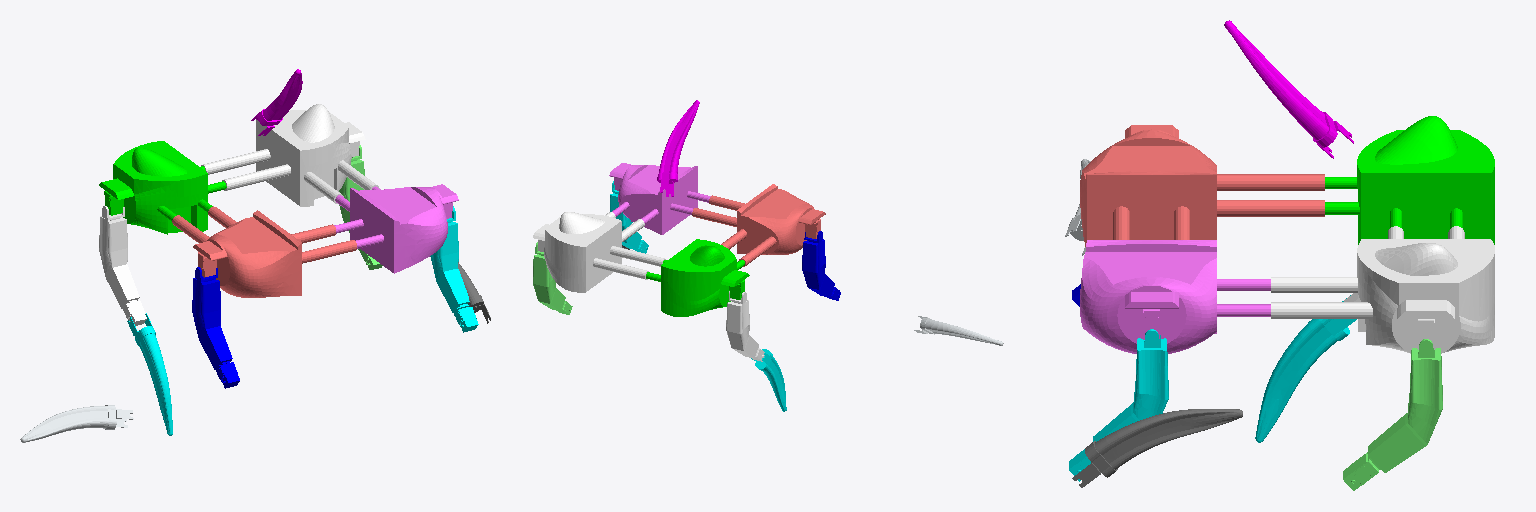
robot.urdf — Robot:
<?xml version="1.0" encoding="utf-8"?>
<!-- This URDF was automatically created by SolidWorks to URDF Exporter! Originally created by [author] ([email redacted]) 
     Commit Version: 1.5.1-0-g916b5db  Build Version: 1.5.7152.31018
     For more information, please see http://wiki.ros.org/sw_urdf_exporter -->
<robot
  name="Robot">
  <link
    name="NodeFL">
    <inertial>
      <origin
        xyz="-0.083675 0.0046599 0.04667"
        rpy="0 0 0" />
      <mass
        value="3.5578" />
      <inertia
        ixx="0.013212"
        ixy="-6.3498E-05"
        ixz="-0.00039742"
        iyy="0.010095"
        iyz="1.6695E-06"
        izz="0.016172" />
    </inertial>
    <visual>
      <origin
        xyz="0 0 0"
        rpy="0 0 0" />
      <geometry>
        <mesh
          filename="package://STL/Render/NodeFL.STL" />
      </geometry>
      <material
        name="NodeFRBase">
        <color
          rgba="1 .5 1 1" />
      </material>
    </visual>
    <collision>
      <origin
        xyz="0 0 0"
        rpy="0 0 0" />
      <geometry>
        <mesh
          filename="package://STL/Simple/NodeFL.STL" />
      </geometry>
    </collision>
  </link>
  <link
    name="LegFLtop">
    <inertial>
      <origin
        xyz="0.047937 -0.11059 0.024739"
        rpy="0 0 0" />
      <mass
        value="0.41495" />
      <inertia
        ixx="0.0010583"
        ixy="0.00019751"
        ixz="4.9968E-08"
        iyy="0.00020265"
        iyz="1.9702E-08"
        izz="0.0011571" />
    </inertial>
    <visual>
      <origin
        xyz="0 0 0"
        rpy="0 0 0" />
      <geometry>
        <mesh
          filename="package://STL/Render/LegFLtop.STL" />
      </geometry>
      <material
        name="LegFLTop">
        <color
          rgba="0 1 1 1" />
      </material>
    </visual>
    <collision>
      <origin
        xyz="0 0 0"
        rpy="0 0 0" />
      <geometry>
        <mesh
          filename="package://STL/Simple/LegFLtop.STL" />
      </geometry>
    </collision>
  </link>
  <joint
    name="LegFLtopJoint"
    type="revolute">
    <origin
      xyz="0.00085062 0.0033885 0.050662"
      rpy="1.5708 0.5901 1.5708" />
    <parent
      link="NodeFL" />
    <child
      link="LegFLtop" />
    <axis
      xyz="0 0 1" />
    <limit
      lower="-1.5"
      upper="1.5"
      effort="1.667"
      velocity="6.25" />
  </joint>
  <link
    name="LegFLbottom">
    <inertial>
      <origin
        xyz="0.02 0.34874 0.022133"
        rpy="0 0 0" />
      <mass
        value="0.18815" />
      <inertia
        ixx="0.0006376"
        ixy="6.6863E-10"
        ixz="-5.2001E-11"
        iyy="4.4092E-05"
        iyz="-2.2131E-05"
        izz="0.00061305" />
    </inertial>
    <visual>
      <origin
        xyz="0 0 0"
        rpy="-3.14 0 0" />
      <geometry>
        <mesh
          filename="package://STL/Render/LegFLbottom.STL" />
      </geometry>
      <material
        name="LegFLbottom">
        <color
          rgba="0.5 0.5 0.5 1" />
      </material>
    </visual>
    <collision>
      <origin
        xyz="0 0 0"
        rpy="-3.14 0 0" />
      <geometry>
        <mesh
          filename="package://STL/Simple/LegFLbottom.STL" />
      </geometry>
    </collision>
  </link>
  <joint
    name="LegFLbottomJoint"
    type="revolute">
    <origin
      xyz="0.034951 -0.24385 0.039243"
      rpy="1.5708 0 2.859" />
    <parent
      link="LegFLtop" />
    <child
      link="LegFLbottom" />
    <axis
      xyz="1 0 0" />
    <limit
      lower="-1.5"
      upper="1.5"
      effort="1.667"
      velocity="6.25" />
  </joint>
  <link
    name="NodeFR">
    <inertial>
      <origin
        xyz="0.010522 -0.22855 -0.045204"
        rpy="0 0 0" />
      <mass
        value="3.5744" />
      <inertia
        ixx="0.016182"
        ixy="-0.00038119"
        ixz="0.0010331"
        iyy="0.013312"
        iyz="-0.00013007"
        izz="0.010372" />
    </inertial>
    <visual>
      <origin
        xyz="0 0 0"
        rpy="0 0 0" />
      <geometry>
        <mesh
          filename="package://STL/Render/NodeFR.STL" />
      </geometry>
      <material
        name="NodeFR">
        <color
          rgba="1 0.5 0.5 1" />
      </material>
    </visual>
    <collision>
      <origin
        xyz="0 0 0"
        rpy="0 0 0" />
      <geometry>
        <mesh
          filename="package://STL/Simple/NodeFR.STL" />
      </geometry>
    </collision>
  </link>
  <joint
    name="NodeFRtoFL"
    type="prismatic">
    <origin
      xyz="-0.22314 -0.041066 0.049378"
      rpy="3.1416 1.4002 1.5708" />
    <parent
      link="NodeFL" />
    <child
      link="NodeFR" />
    <axis
      xyz="0 1 0" />
    <limit
      lower="-1"
      upper="1"
      effort="1.667"
      velocity="0" />
  </joint>
  <link
    name="LegFRtop">
    <inertial>
      <origin
        xyz="0.053647 -0.10777 -0.024774"
        rpy="0 0 0" />
      <mass
        value="0.41495" />
      <inertia
        ixx="0.0010335"
        ixy="0.00024421"
        ixz="-2.2119E-08"
        iyy="0.00022746"
        iyz="9.361E-08"
        izz="0.0011571" />
    </inertial>
    <visual>
      <origin
        xyz="0 0 0"
        rpy="0 0 0" />
      <geometry>
        <mesh
          filename="package://STL/Render/LegFRtop.STL" />
      </geometry>
      <material
        name="LegFRtop">
        <color
          rgba="0 0 1 1" />
      </material>
    </visual>
    <collision>
      <origin
        xyz="0 0 0"
        rpy="0 0 0" />
      <geometry>
        <mesh
          filename="package://STL/Simple/LegFRtop.STL" />
      </geometry>
    </collision>
  </link>
  <joint
    name="LegFRtopJoint"
    type="revolute">
    <origin
      xyz="0.0067323 -0.31401 -0.046653"
      rpy="-1.5708 0.75396 0" />
    <parent
      link="NodeFR" />
    <child
      link="LegFRtop" />
    <axis
      xyz="0 0 1" />
    <limit
      lower="-1.5"
      upper="1.5"
      effort="1.667"
      velocity="6.25" />
  </joint>
  <link
    name="LegFRbottom">
    <inertial>
      <origin
        xyz="0.02 0.34598 -0.0004487"
        rpy="0 0 0" />
      <mass
        value="0.18815" />
      <inertia
        ixx="0.0006376"
        ixy="-6.6391E-10"
        ixz="-9.4871E-11"
        iyy="4.3603E-05"
        iyz="-1.4548E-05"
        izz="0.00061354" />
    </inertial>
    <visual>
      <origin
        xyz="0 0 0"
        rpy="0 0 0" />
      <geometry>
        <mesh
          filename="package://STL/Render/LegFRbottom.STL" />
      </geometry>
      <material
        name="LegFRbottom">
        <color
          rgba="0.89804 0.91765 0.92941 1" />
      </material>
    </visual>
    <collision>
      <origin
        xyz="0 0 0"
        rpy="0 0 0" />
      <geometry>
        <mesh
          filename="package://STL/Simple/LegFRbottom.STL" />
      </geometry>
    </collision>
  </link>
  <joint
    name="LegFRbottomJoint"
    type="revolute">
    <origin
      xyz="0.048978 -0.23798 -0.039243"
      rpy="-1.5708 0 -0.2264" />
    <parent
      link="LegFRtop" />
    <child
      link="LegFRbottom" />
    <axis
      xyz="-1 0 0" />
    <limit
      lower="-1.5"
      upper="1.5"
      effort="1.667"
      velocity="6.25" />
  </joint>
  <link
    name="NodeBR">
    <inertial>
      <origin
        xyz="0.013605 -0.19633 -0.0379"
        rpy="0 0 0" />
      <mass
        value="3.796" />
      <inertia
        ixx="0.015744"
        ixy="0.00031531"
        ixz="0.00088543"
        iyy="0.01188"
        iyz="1.0411E-06"
        izz="0.015161" />
    </inertial>
    <visual>
      <origin
        xyz="0 0 0"
        rpy="0 0 0" />
      <geometry>
        <mesh
          filename="package://STL/Render/NodeBR.STL" />
      </geometry>
      <material
        name="NodeBR">
        <color
          rgba="0 1 0 1" />
      </material>
    </visual>
    <collision>
      <origin
        xyz="0 0 0"
        rpy="0 0 0" />
      <geometry>
        <mesh
          filename="package://STL/Simple/NodeBR.STL" />
      </geometry>
    </collision>
  </link>
  <joint
    name="NodeBRtoFR"
    type="prismatic">
    <origin
      xyz="0.042552 -0.2667 -0.24704"
      rpy="1.507 -0.15828 0.38525" />
    <parent
      link="NodeFR" />
    <child
      link="NodeBR" />
    <axis
      xyz="0 1 0" />
    <limit
      lower="-1"
      upper="1"
      effort="1.667"
      velocity="0" />
  </joint>
  <link
    name="LegBRtop">
    <inertial>
      <origin
        xyz="0.024372 -0.11789 -0.024774"
        rpy="0 0 0" />
      <mass
        value="0.41495" />
      <inertia
        ixx="0.0011015"
        ixy="1.3546E-05"
        ixz="2.4998E-09"
        iyy="0.00015944"
        iyz="9.6156E-08"
        izz="0.0011571" />
    </inertial>
    <visual>
      <origin
        xyz="0 0 0"
        rpy="0 0 0" />
      <geometry>
        <mesh
          filename="package://STL/Render/LegBRtop.STL" />
      </geometry>
      <material
        name="LegBRtop">
        <color
          rgba="1 1 1 1" />
      </material>
    </visual>
    <collision>
      <origin
        xyz="0 0 0"
        rpy="0 0 0" />
      <geometry>
        <mesh
          filename="package://STL/Simple/LegBRtop.STL" />
      </geometry>
    </collision>
  </link>
  <joint
    name="LegBRtopJoint"
    type="revolute">
    <origin
      xyz="-0.0042984 -0.19589 0.049227"
      rpy="-2.7873 -0.14095 -1.2078" />
    <parent
      link="NodeBR" />
    <child
      link="LegBRtop" />
    <axis
      xyz="0 0 1" />
    <limit
      lower="-1.5"
      upper="1.5"
      effort="1.667"
      velocity="6.25" />
  </joint>
  <link
    name="LegBRbottom">
    <inertial>
      <origin
        xyz="-0.33522 -0.085642 0.02"
        rpy="0 0 0" />
      <mass
        value="0.18815" />
      <inertia
        ixx="8.589E-05"
        ixy="-0.00015008"
        ixz="6.1943E-10"
        iyy="0.00057125"
        iyz="2.5706E-10"
        izz="0.0006376" />
    </inertial>
    <visual>
      <origin
        xyz="0 0 0"
        rpy="0 0 0" />
      <geometry>
        <mesh
          filename="package://STL/Render/LegBRbottom.STL" />
      </geometry>
      <material
        name="LegBRbottom">
        <color
          rgba="0 1 1 1" />
      </material>
    </visual>
    <collision>
      <origin
        xyz="0 0 0"
        rpy="0 0 0" />
      <geometry>
        <mesh
          filename="package://STL/Simple/LegBRbottom.STL" />
      </geometry>
    </collision>
  </link>
  <joint
    name="LegBRbottomJoint"
    type="revolute">
    <origin
     xyz="-0.013369 -0.2426 -0.039243"
      rpy="-1.5708 0 -0.48443" />
    <parent
      link="LegBRtop" />
    <child
      link="LegBRbottom" />
    <axis
      xyz="0 0 -1" />
    <limit
      lower="-1.5"
      upper="1.5"
      effort="1.667"
      velocity="6.25" />
  </joint>
  <link
    name="NodeBL">
    <inertial>
      <origin
        xyz="0 0 0"
        rpy="0 0 0" />
      <mass
        value="0" />
      <inertia
        ixx="0"
        ixy="0"
        ixz="0"
        iyy="0"
        iyz="0"
        izz="0" />
    </inertial>
    <visual>
      <origin
        xyz="0 0 0"
        rpy="0 0 0" />
      <geometry>
        <mesh
          filename="package://STL/Render/NodeBL.STL" />
      </geometry>
      <material
        name="NodeBL">
        <color
          rgba="1 1 1 1" />
      </material>
    </visual>
    <collision>
      <origin
        xyz="0 0 0"
        rpy="0 0 0" />
      <geometry>
        <mesh
          filename="package://STL/Simple/NodeBL.STL" />
      </geometry>
    </collision>
  </link>
  <joint
    name="NodeBLtoFL"
    type="prismatic">
    <origin
      xyz="-0.30641 0.40561 0.046076"
      rpy="1.5708 0 0" />
    <parent
      link="NodeFL" />
    <child
      link="NodeBL" />
    <axis
      xyz="0 0 1" />
    <limit
      lower="-1"
      upper="1"
      effort="1.667"
      velocity="0" />
  </joint>
  <link
    name="LegBLtop">
    <inertial>
      <origin
        xyz="0.043847 -0.11228 0.024739"
        rpy="0 0 0" />
      <mass
        value="0.41495" />
      <inertia
        ixx="0.0010716"
        ixy="0.00016561"
        ixz="5.0658E-08"
        iyy="0.00018932"
        iyz="1.7856E-08"
        izz="0.0011571" />
    </inertial>
    <visual>
      <origin
        xyz="0 0 0"
        rpy="0 0 0" />
      <geometry>
        <mesh
          filename="package://STL/Render/LegBLtop.STL" />
      </geometry>
      <material
        name="LegBLtop">
        <color
          rgba=".5 1 .5 1" />
      </material>
    </visual>
    <collision>
      <origin
        xyz="0 0 0"
        rpy="0 0 0" />
      <geometry>
        <mesh
          filename="package://STL/Simple/LegBLtop.STL" />
      </geometry>
    </collision>
  </link>
  <joint
    name="LegBLtopJoint"
    type="revolute">
    <origin
      xyz="0.30766 -0.010974 9.8262E-05"
      rpy="-1.5708 1.0174 -1.5708" />
    <parent
      link="NodeBL" />
    <child
      link="LegBLtop" />
    <axis
      xyz="0 0 1" />
    <limit
      lower="-1.5"
      upper="1.5"
      effort="1.667"
      velocity="6.25" />
  </joint>
  <link
    name="LegBLbottom">
    <inertial>
      <origin
        xyz="-0.34924 0.011628 -0.02"
        rpy="0 0 0" />
      <mass
        value="0.18815" />
      <inertia
        ixx="4.3276E-05"
        ixy="4.9763E-06"
        ixz="6.6678E-10"
        iyy="0.00061386"
        iyz="7.2097E-11"
        izz="0.0006376" />
    </inertial>
    <visual>
      <origin
        xyz="0 0 0"
        rpy="0 0 0" />
      <geometry>
        <mesh
          filename="package://STL/Render/LegBLbottom.STL" />
      </geometry>
      <material
        name="LegBLbottom">
        <color
          rgba="1 0 1 1" />
      </material>
    </visual>
    <collision>
      <origin
        xyz="0 0 0"
        rpy="0 0 0" />
      <geometry>
        <mesh
          filename="package://STL/Simple/LegBLbottom.STL" />
      </geometry>
    </collision>
  </link>
  <joint
    name="LegBLbottomJoint"
    type="revolute">
    <origin
      xyz="0.039243 0.025981 -0.24496"
      rpy="-1.5708 0 -0.31926" />
    <parent
      link="LegBLtop" />
    <child
      link="LegBLbottom" />
    <axis
      xyz="0 0 -1" />
    <limit
      lower="-1.5"
      upper="1.5"
      effort="1.667"
      velocity="6.25" />
  </joint>
</robot>

--- What the picture shows (computed from the rendered views, not written in the file) ---
The picture shows the robot from 3 angles, left to right: view 1: azimuth 30°, elevation 25°; view 2: azimuth 150°, elevation 25°; view 3: azimuth 270°, elevation 25°; orthographic projection.
Robot: Robot — 12 links, 11 joints (8 revolute, 3 prismatic); root link NodeFL; default pose: every joint at zero.
Visible links, largest first — view 1: NodeBL, NodeFR, NodeBR, NodeFL, LegFRtop, LegBRtop, LegFLtop, LegFRbottom, LegBRbottom, LegBLbottom, LegBLtop, LegFLbottom; view 2: NodeBL, NodeFR, NodeBR, NodeFL, LegFRtop, LegBRtop, LegBLbottom, LegBLtop, LegFRbottom, LegBRbottom, LegFLtop; view 3: NodeBL, NodeFR, NodeFL, NodeBR, LegBLtop, LegFLbottom, LegBRbottom, LegFLtop, LegBLbottom.
Link boxes in pixels (left/top/right/bottom): NodeBL: left=201, top=104, right=379, bottom=206; NodeFR: left=172, top=206, right=356, bottom=297; NodeBR: left=99, top=141, right=226, bottom=234; NodeFL: left=334, top=184, right=458, bottom=273; LegFRtop: left=192, top=267, right=239, bottom=388; LegBRtop: left=99, top=206, right=146, bottom=325; LegFLtop: left=430, top=206, right=478, bottom=332; LegFRbottom: left=20, top=405, right=133, bottom=442; LegBRbottom: left=127, top=313, right=172, bottom=435; LegBLbottom: left=251, top=69, right=302, bottom=135; LegBLtop: left=339, top=145, right=382, bottom=269; LegFLbottom: left=458, top=262, right=490, bottom=323; NodeBL: left=533, top=212, right=665, bottom=292; NodeFR: left=692, top=184, right=825, bottom=266; NodeBR: left=646, top=239, right=749, bottom=316; NodeFL: left=609, top=163, right=710, bottom=234; LegFRtop: left=802, top=231, right=840, bottom=300; LegBRtop: left=726, top=291, right=764, bottom=361; LegBLbottom: left=657, top=100, right=699, bottom=196; LegBLtop: left=533, top=242, right=572, bottom=314; LegFRbottom: left=914, top=316, right=1003, bottom=345; LegBRbottom: left=751, top=349, right=786, bottom=411; LegFLtop: left=610, top=181, right=648, bottom=253; NodeBL: left=1271, top=226, right=1494, bottom=353; NodeFR: left=1080, top=125, right=1324, bottom=246; NodeFL: left=1080, top=240, right=1270, bottom=353; NodeBR: left=1325, top=116, right=1494, bottom=244; LegBLtop: left=1343, top=339, right=1442, bottom=490; LegFLbottom: left=1072, top=409, right=1242, bottom=487; LegBRbottom: left=1255, top=295, right=1356, bottom=442; LegFLtop: left=1069, top=329, right=1168, bottom=481; LegBLbottom: left=1224, top=20, right=1353, bottom=158.
Size in the robot's own frame: 1.15 by 0.6313 by 0.8173 metres.
Meshes: 12 distinct files referenced, 12 mesh visuals loaded (12 binary STL).